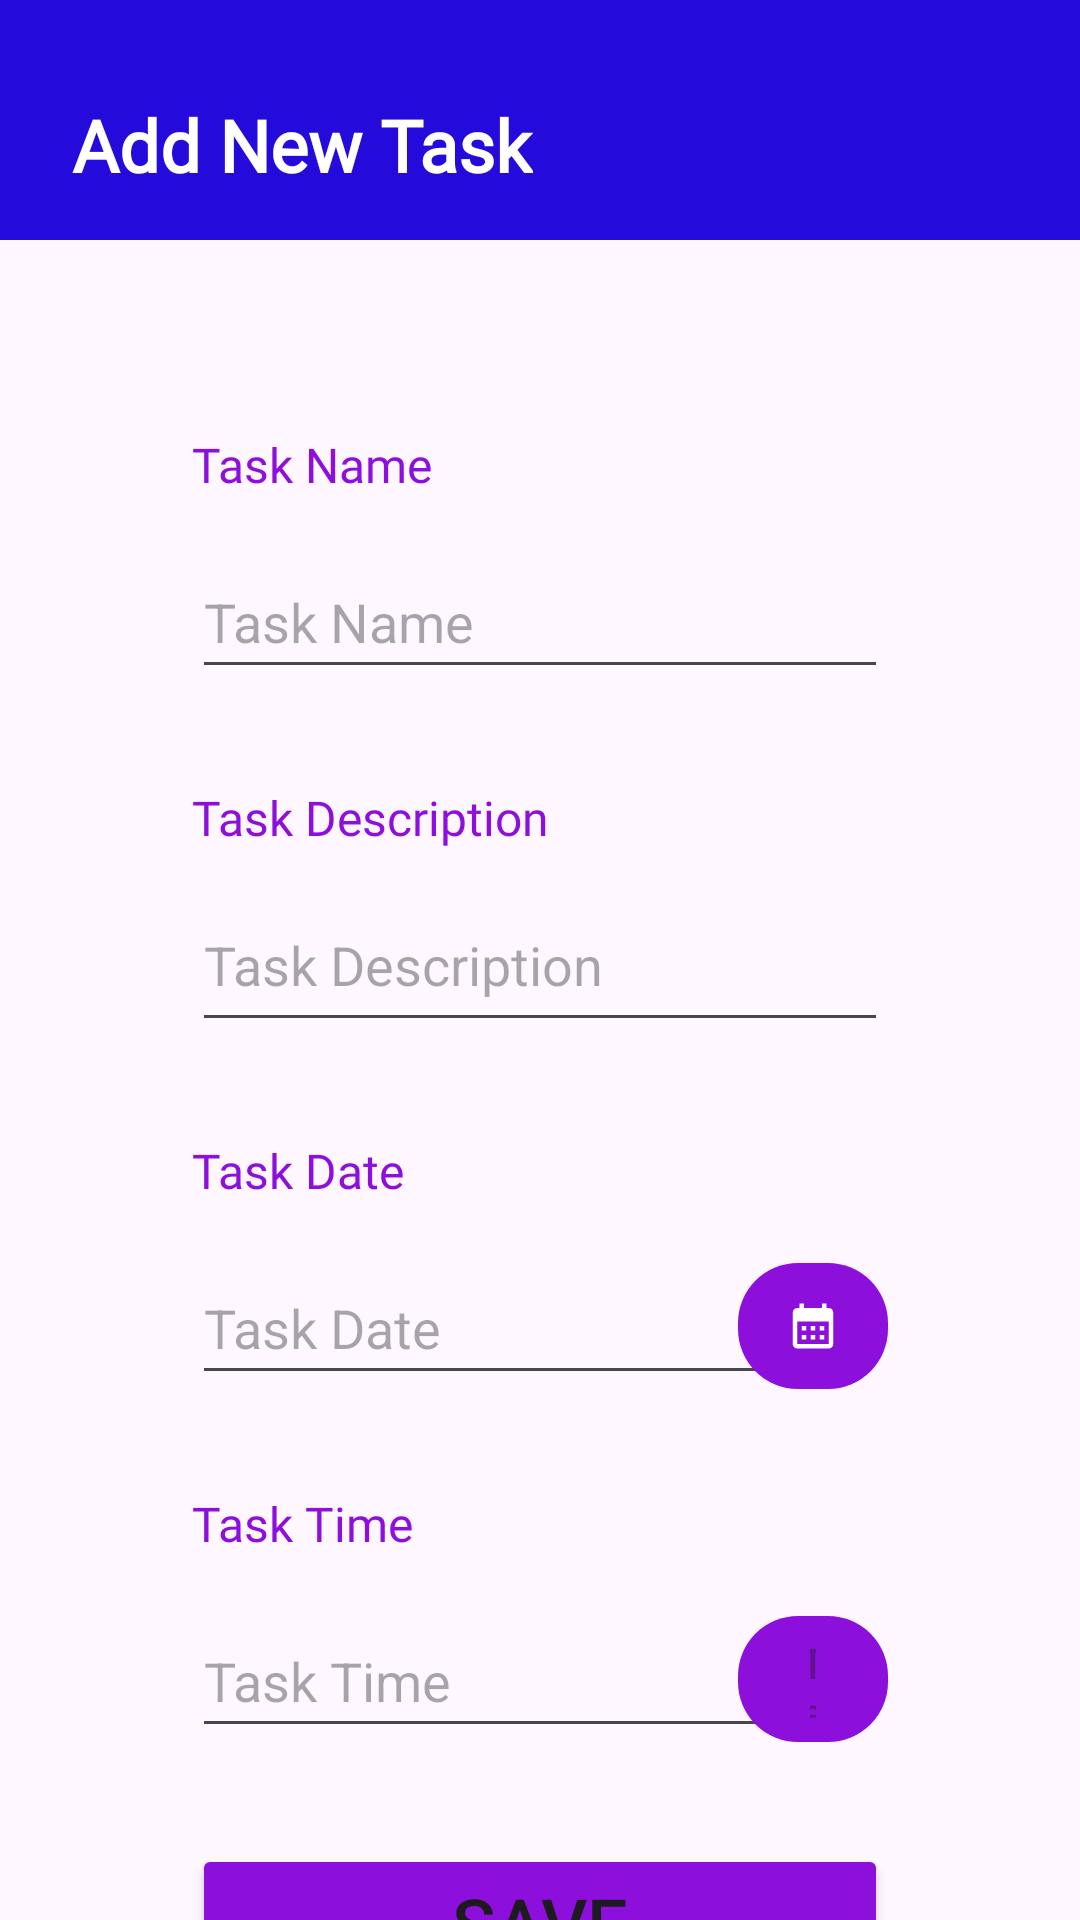

Icon bounding boxes for this 1080*1920 phone screenshot, format (x1, y1, x2, y2):
calender: (738, 1263, 888, 1389)
